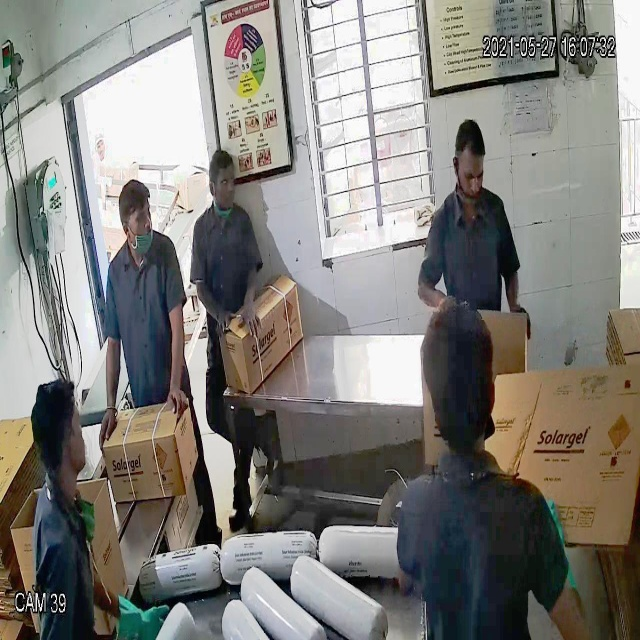Sin_gafas: (450, 156, 486, 192), (120, 204, 158, 237)
